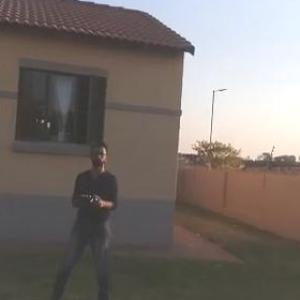follow: (45, 133, 125, 299)
